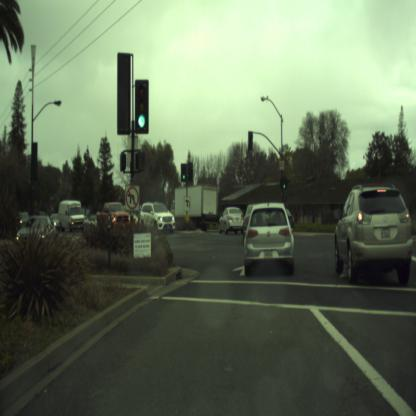Green: (136, 78, 146, 132), (180, 162, 186, 181), (282, 176, 286, 190)
Red: (247, 130, 252, 148), (188, 162, 192, 180)
